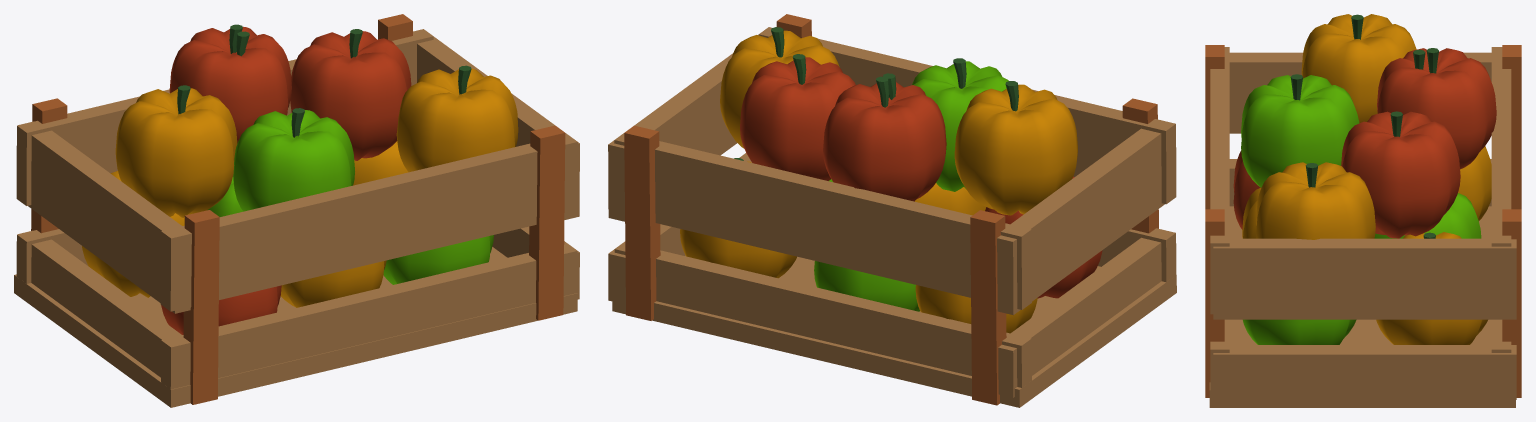
The model's file is applebox.fbx.
The picture shows the model from 3 angles, left to right: view 1: azimuth 30°, elevation 25°; view 2: azimuth 150°, elevation 25°; view 3: azimuth 270°, elevation 25°; orthographic projection. The views are drawn at different scales.
Parts seen in each view (by area): view 1: pCube93, pCube99, pCube100, pSphere72, pCube90, pSphere77, pSphere68, pSphere80, pSphere81, pCube98, pCube96, pCube94 (+12 smaller); view 2: pCube92, pCube89, pCube100, pSphere72, pCube90, pSphere81, pSphere77, pCube98, pCube93, pCube95, pCube101, pCube91 (+11 smaller); view 3: pCube101, pCube97, pSphere77, pSphere80, pSphere81, pSphere68, pSphere72, pCube90, pCube93, pCube92, pCube100, pSphere73 (+12 smaller).
Part boxes in pixels (box(x1,y1,x2,y2)): pCube93: box(160, 134, 577, 311); pCube99: box(161, 243, 577, 389); pCube100: box(18, 121, 190, 313); pSphere72: box(115, 88, 237, 217); pCube90: box(14, 247, 577, 407); pSphere77: box(290, 31, 411, 160); pSphere68: box(396, 68, 518, 172); pSphere80: box(233, 110, 354, 211); pSphere81: box(169, 26, 291, 143); pCube98: box(18, 230, 181, 377); pCube96: box(183, 210, 219, 404); pCube94: box(529, 125, 565, 320); pCube92: box(614, 133, 1031, 309); pCube89: box(614, 242, 1031, 387); pCube100: box(997, 128, 1164, 315); pSphere72: box(954, 84, 1077, 215); pCube90: box(612, 255, 1176, 407); pSphere81: box(823, 82, 946, 201); pSphere77: box(740, 57, 855, 180); pCube98: box(998, 237, 1161, 397); pCube93: box(758, 27, 1176, 204); pCube95: box(624, 125, 660, 320); pCube101: box(608, 34, 758, 221); pCube91: box(970, 210, 1006, 405); pCube101: box(1213, 238, 1516, 319); pCube97: box(1213, 345, 1516, 399); pSphere77: box(1341, 111, 1460, 238); pSphere80: box(1241, 75, 1359, 187); pSphere81: box(1377, 48, 1496, 169); pSphere68: box(1256, 162, 1375, 239); pSphere72: box(1301, 14, 1416, 123); pCube90: box(1209, 206, 1515, 407); pCube93: box(1210, 47, 1229, 314); pCube92: box(1491, 47, 1511, 246); pCube100: box(1229, 52, 1491, 133); pSphere73: box(1376, 232, 1487, 344).
Bounding box in the file's own units: 6.41 × 3.81 × 4.39.
